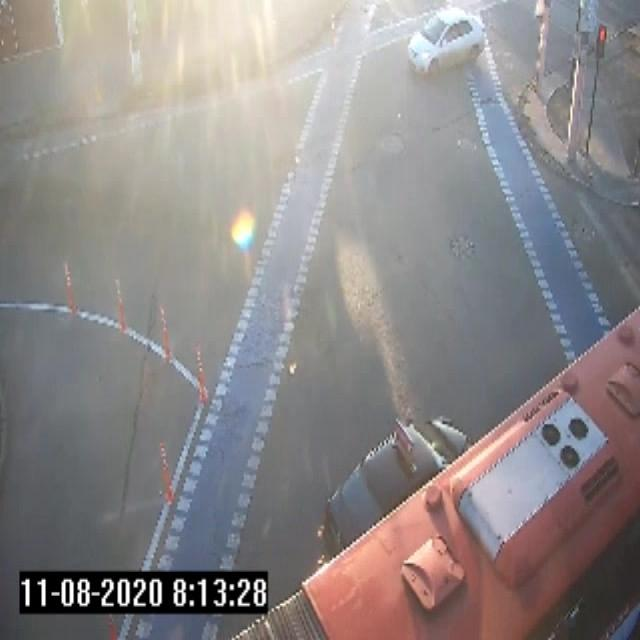AB: (216, 302, 640, 638)
